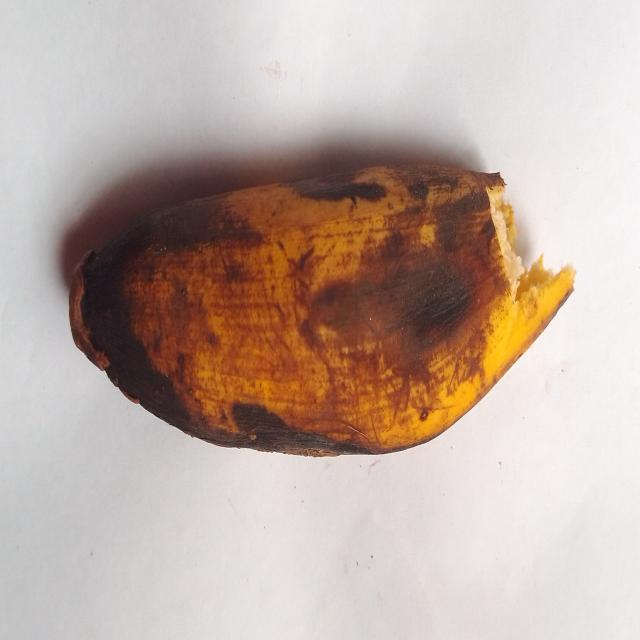banana: (71, 167, 574, 454)
